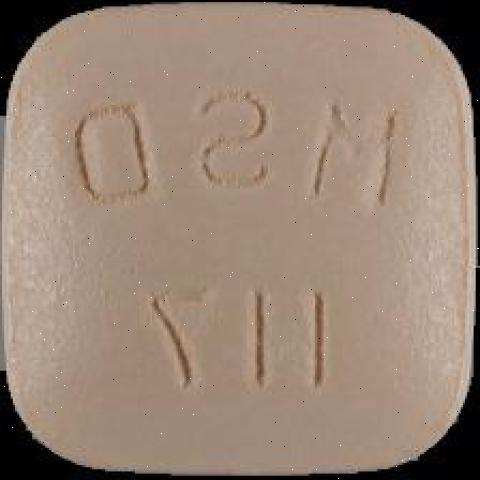Pill: (0, 3, 475, 480)
